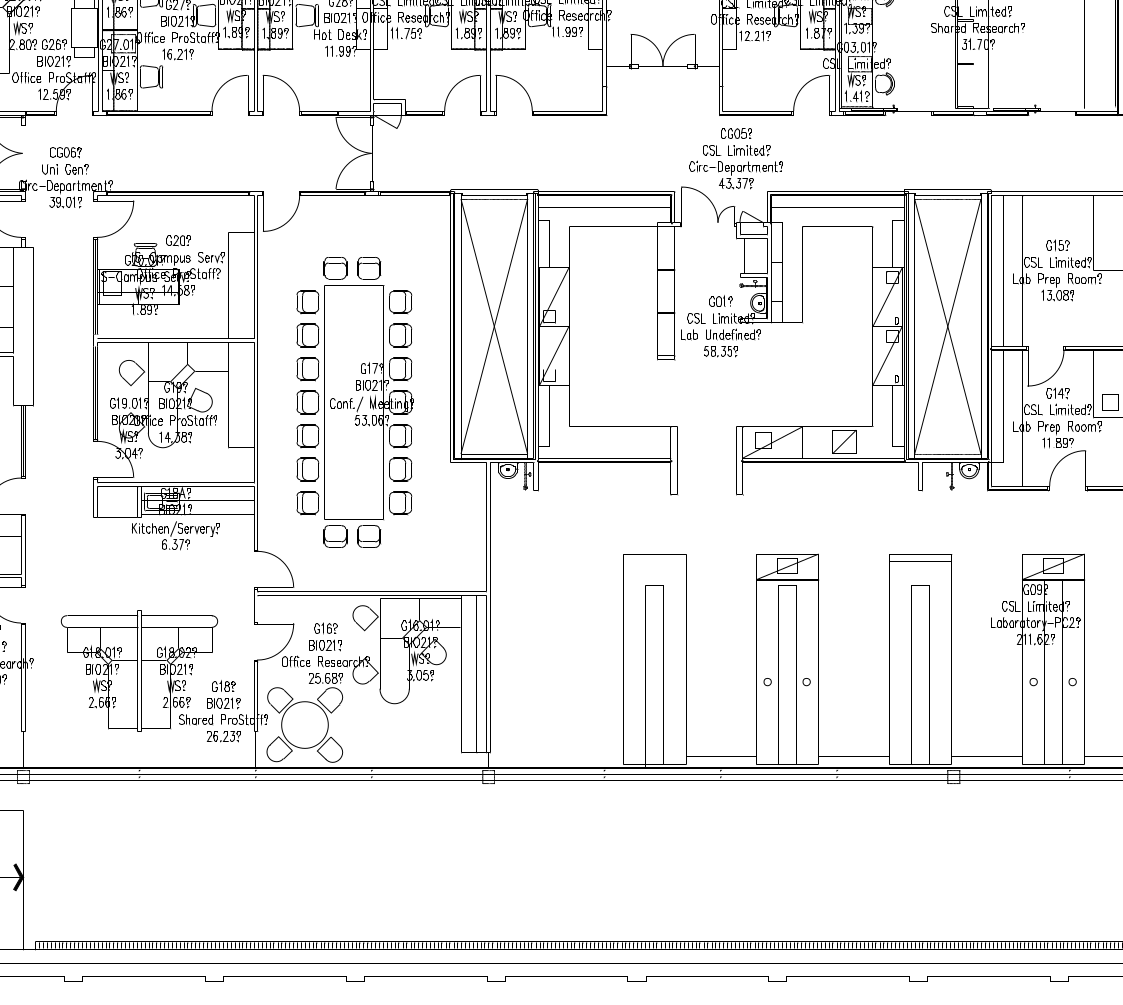door: (625, 26, 704, 74), (678, 182, 738, 231), (1041, 442, 1095, 493), (492, 71, 541, 121), (436, 73, 485, 123), (261, 68, 310, 118), (204, 69, 253, 119), (260, 185, 309, 235), (787, 71, 836, 121), (1026, 339, 1068, 389), (255, 539, 297, 589), (251, 613, 293, 663), (92, 431, 134, 481), (97, 199, 139, 249)
